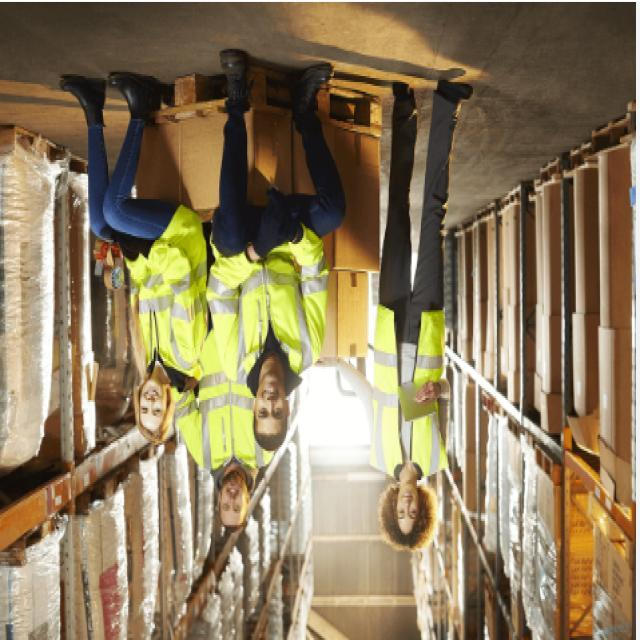shoes: (221, 50, 334, 121), (57, 69, 163, 129), (389, 71, 475, 123)
vest: (213, 216, 332, 395), (176, 323, 283, 479), (368, 298, 452, 484), (125, 198, 210, 374)
